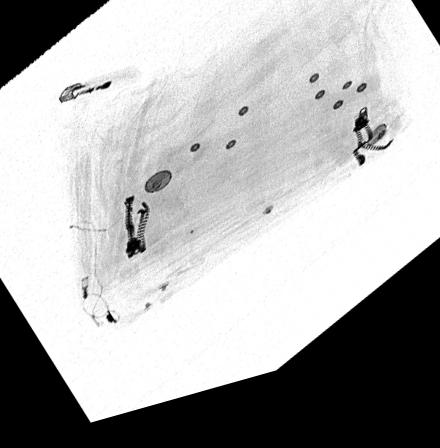Lighter: (57, 71, 143, 109)
